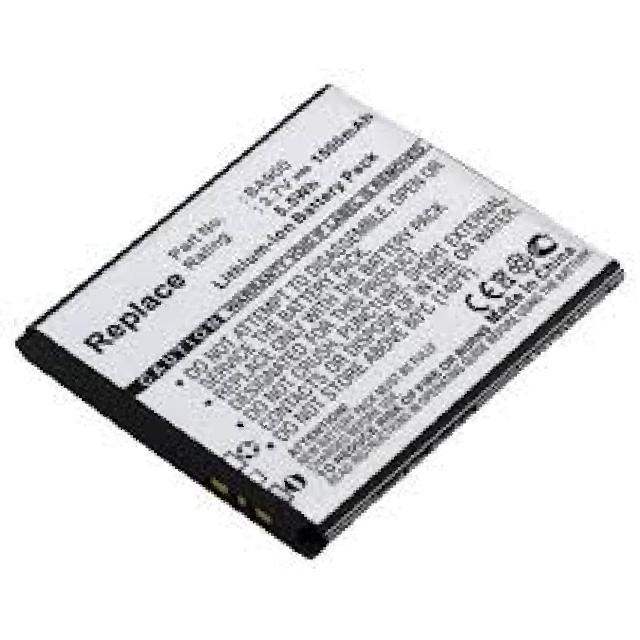Battery: (8, 71, 634, 568)
